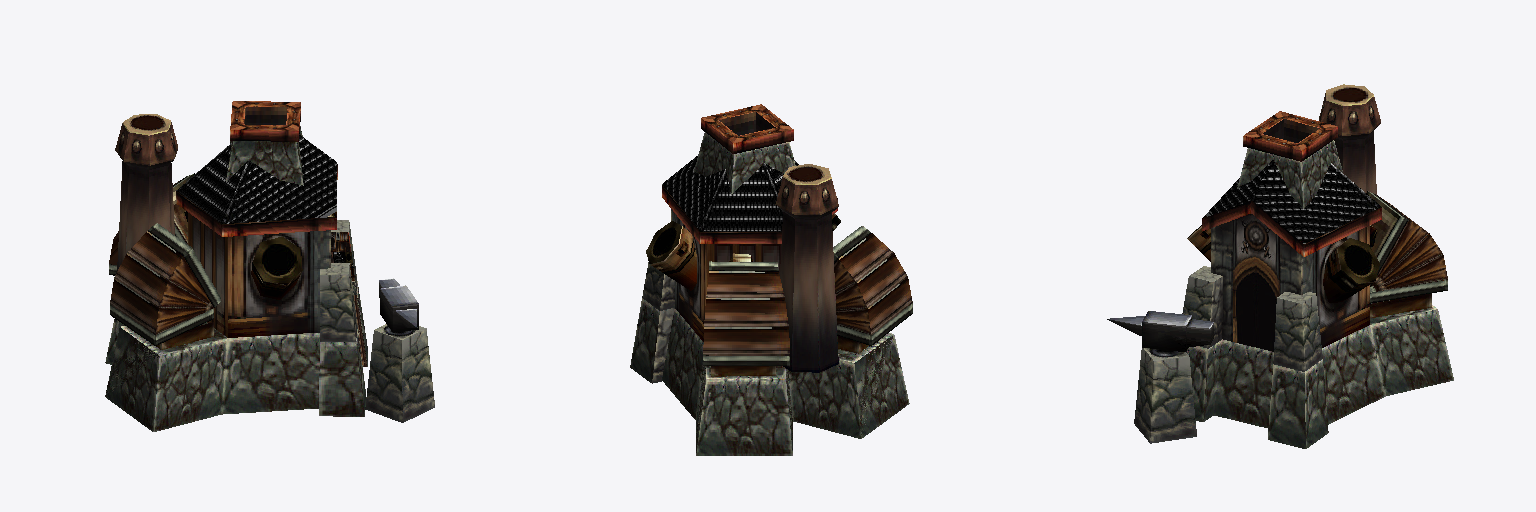
3 views of the same model, side by side, from view 1: azimuth 30°, elevation 25°; view 2: azimuth 150°, elevation 25°; view 3: azimuth 270°, elevation 25° (orthographic).
Visible parts, largest first — view 1: Converted_object_8(m0); view 2: Converted_object_8(m0); view 3: Converted_object_8(m0).
Boxes of the visible parts, box(x1,y1,x2,y2) form: Converted_object_8(m0): box(105, 101, 434, 431); Converted_object_8(m0): box(630, 104, 912, 455); Converted_object_8(m0): box(1107, 84, 1453, 448).
Size of the model in its own units: 8.52 by 8.63 by 10.29.
Materials: 1 (1 with a texture image).